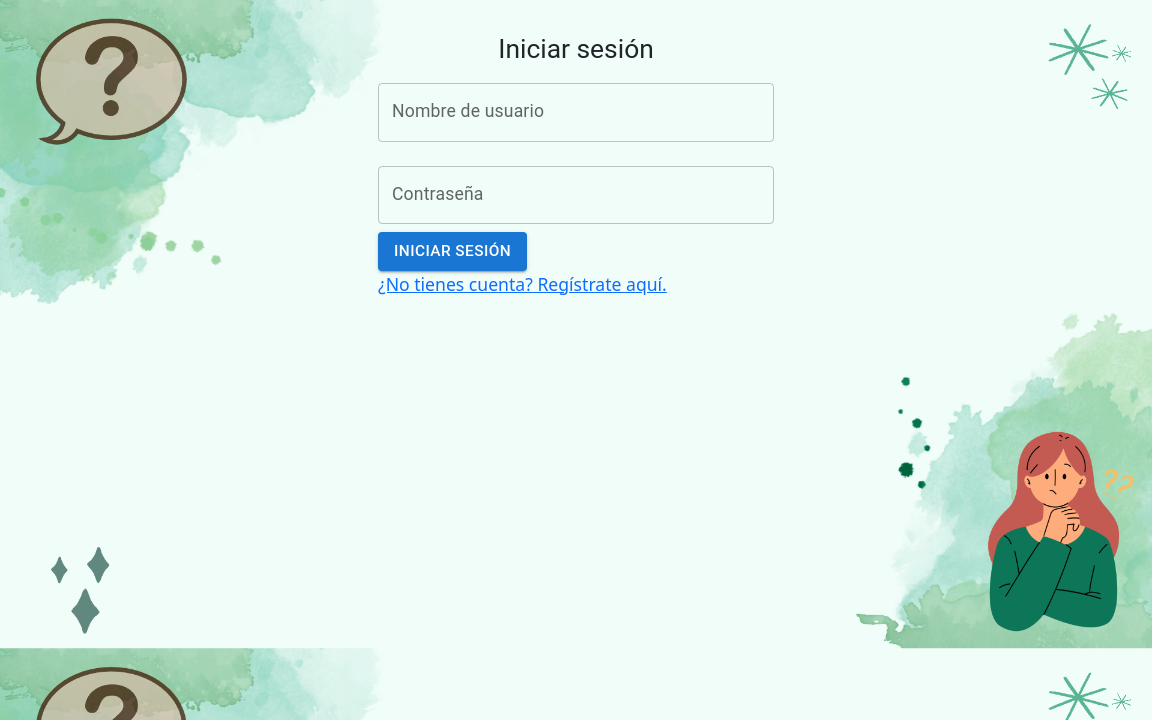
Test: Login component › should log in successfully
The image size is (1152, 720).
// Simulamos la entrada de un usuario válido en login
Type "testUser" into the field labelled "Nombre de usuario" at (576, 112), box [378,83,774,142]
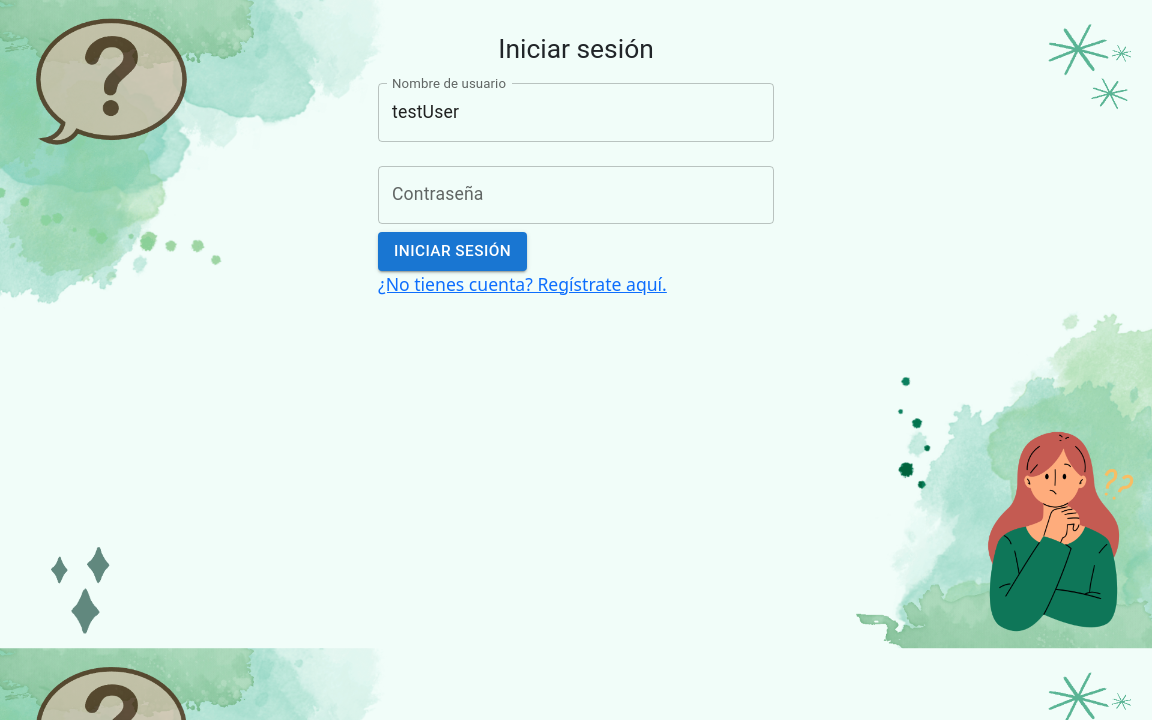
Type "testPassword" into the password field labelled "Contraseña" at (576, 195), box [378,166,774,224]
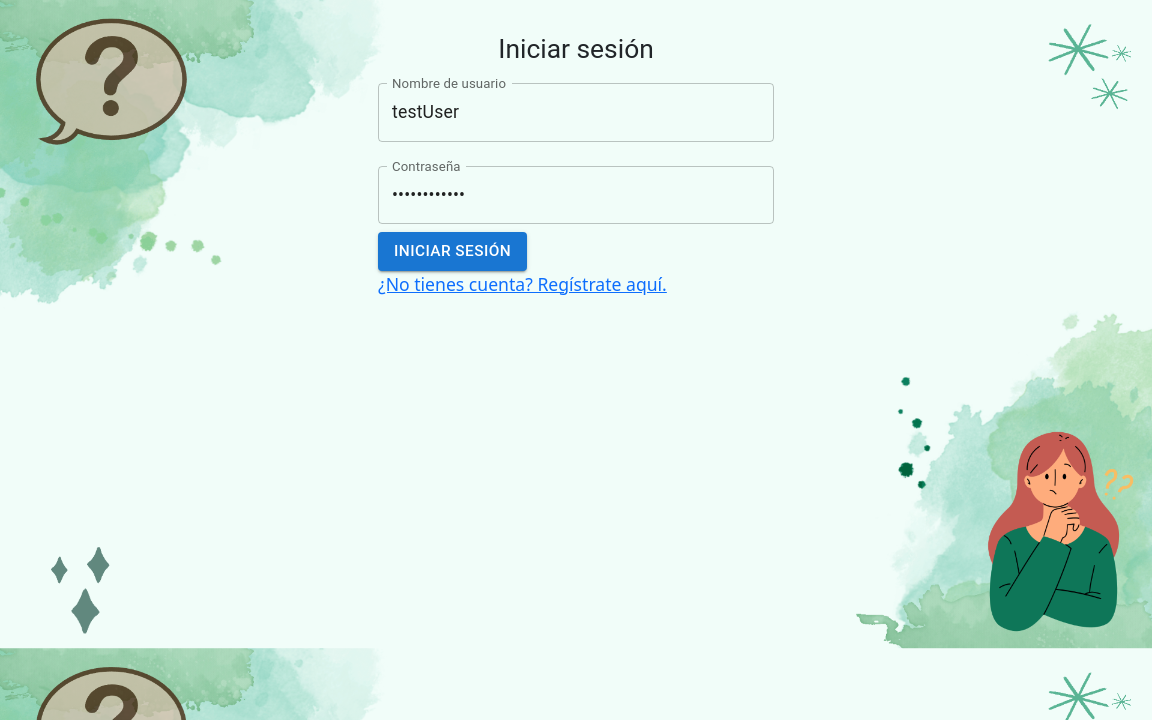
// Click en el botón de login
Click the button "Iniciar sesión" at (453, 251), box [378,232,527,271]
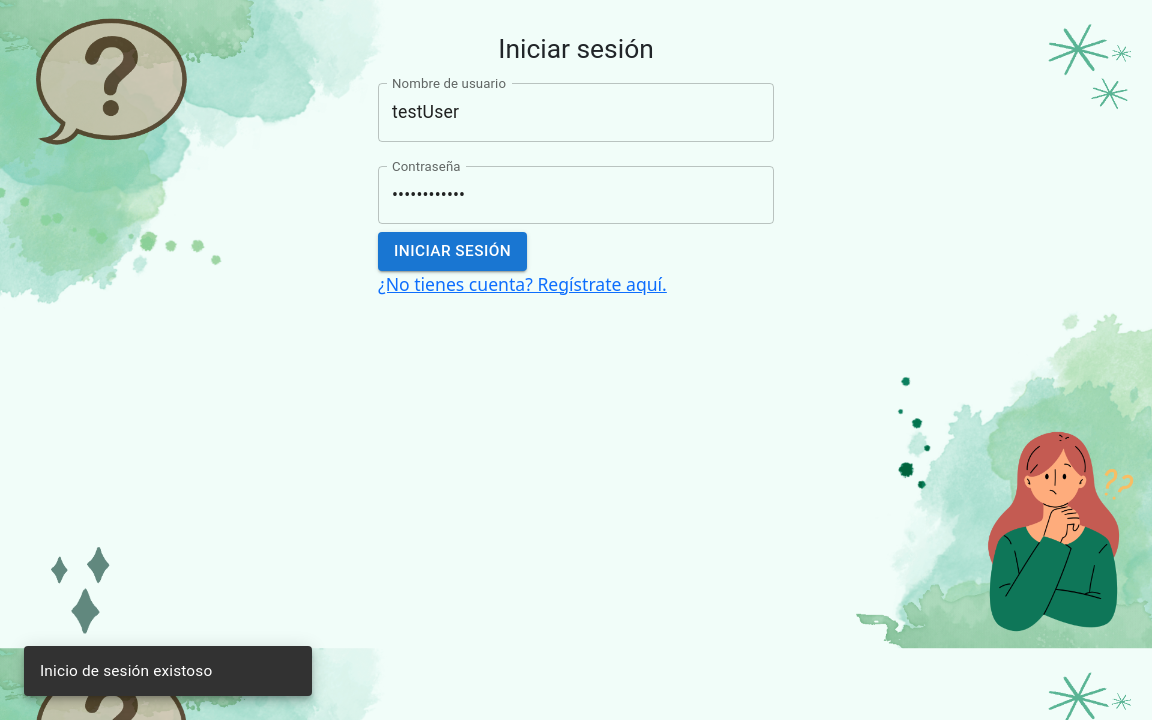
Expected: the text "Inicio de sesión existoso" is shown, [40,662,212,680]
